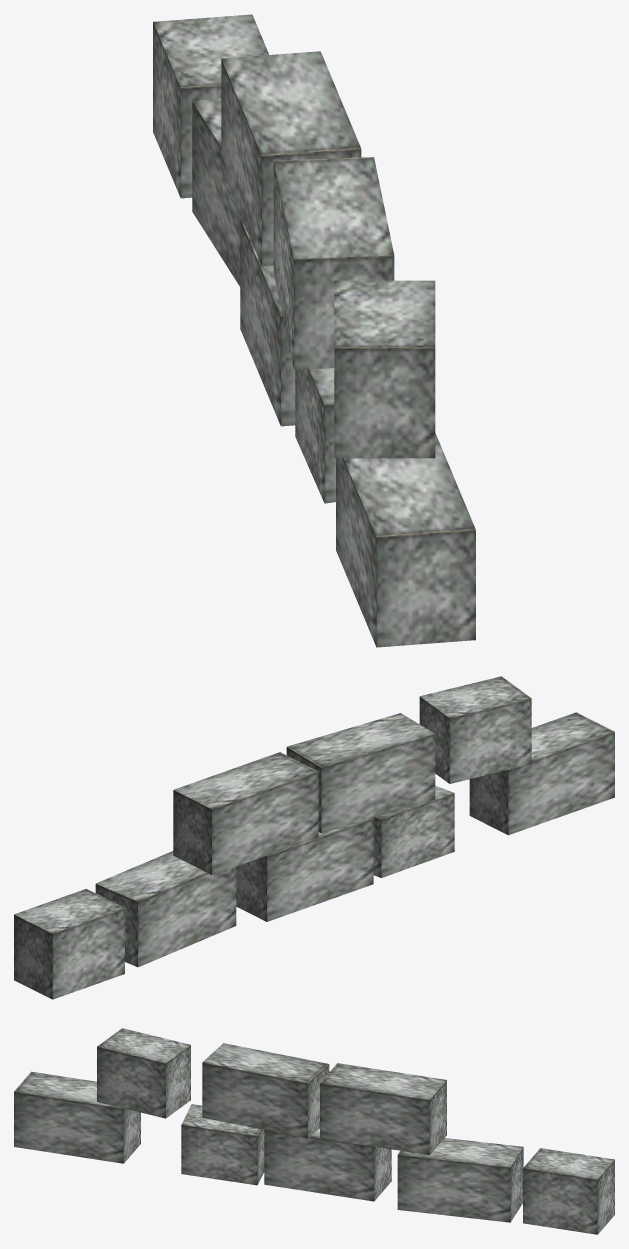
Rendered from Brick_Pile3.dae.
The picture shows the model from 3 angles, top to bottom: view 1: azimuth 30°, elevation 25°; view 2: azimuth 150°, elevation 25°; view 3: azimuth 270°, elevation 25°; orthographic projection. The views are drawn at different scales.
Visible parts, largest first — view 1: Object001; view 2: Object001; view 3: Object001.
Boxes of the visible parts, x1,y1,x2,y2 form: Object001: [153, 14, 475, 647]; Object001: [14, 676, 614, 999]; Object001: [14, 1028, 614, 1234].
Size of the model in its own units: 3.08 by 1.47 by 7.25.
